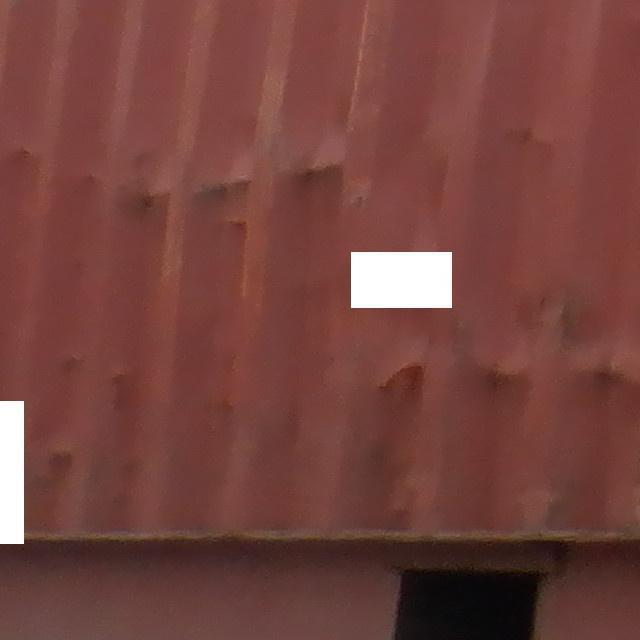dent: (362, 339, 640, 412), (109, 148, 354, 227)
